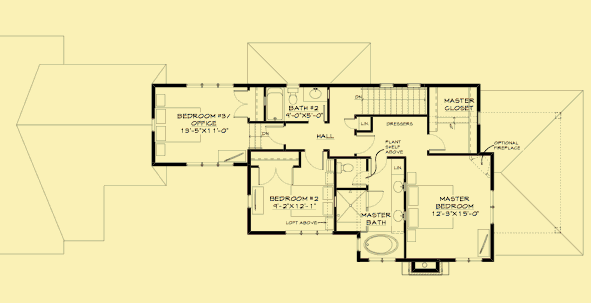bed: (405, 184, 456, 231), (154, 106, 204, 146)
door: (256, 166, 295, 187), (263, 123, 287, 148), (231, 88, 250, 119), (303, 149, 328, 171), (355, 133, 377, 156), (426, 130, 447, 153), (366, 188, 385, 209), (348, 169, 369, 187), (342, 116, 355, 132)
large_sink: (333, 162, 356, 178), (285, 85, 300, 107)
small_sink: (387, 173, 402, 231), (299, 86, 329, 104)
stairs: (360, 85, 427, 115)
tub: (360, 231, 404, 257), (265, 86, 285, 120)
window: (282, 226, 335, 237), (183, 82, 233, 90), (184, 160, 234, 167), (452, 254, 485, 263), (489, 189, 497, 224)
